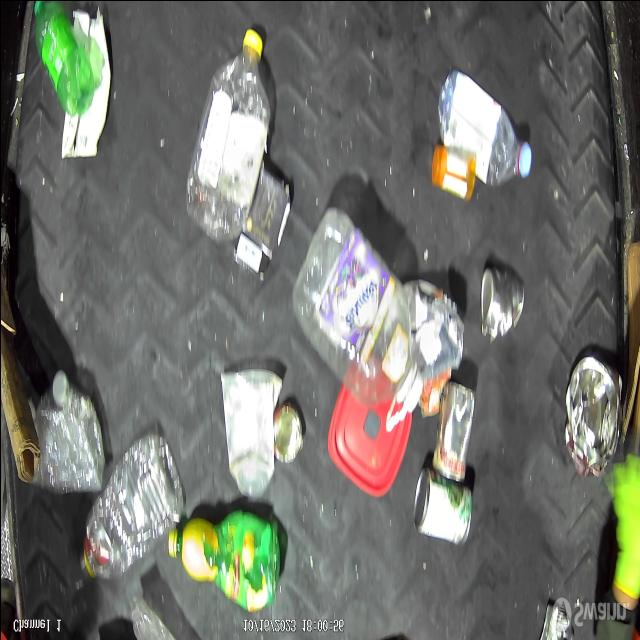can: (220, 368, 282, 498), (412, 466, 472, 546), (432, 378, 474, 482), (479, 266, 524, 340), (272, 401, 304, 463)
plastic_bottle: (184, 25, 270, 244), (78, 428, 184, 580), (34, 368, 104, 494)
